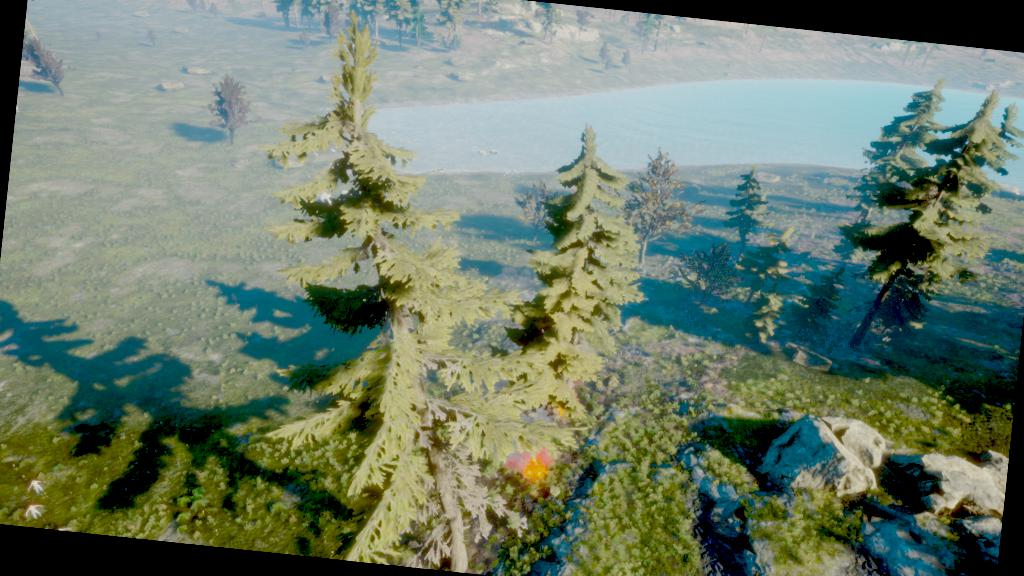Fire: (497, 449, 554, 483)
human: (22, 466, 64, 505), (18, 500, 55, 528)
